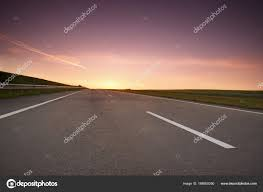strada: (5, 91, 260, 174)
